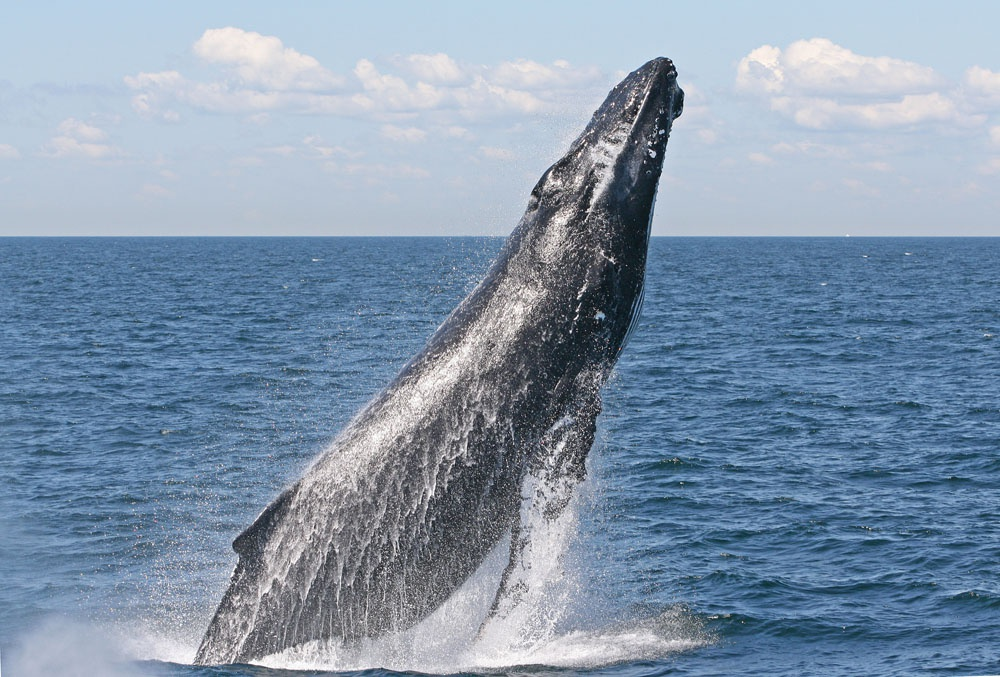humpback: (190, 62, 696, 660)
